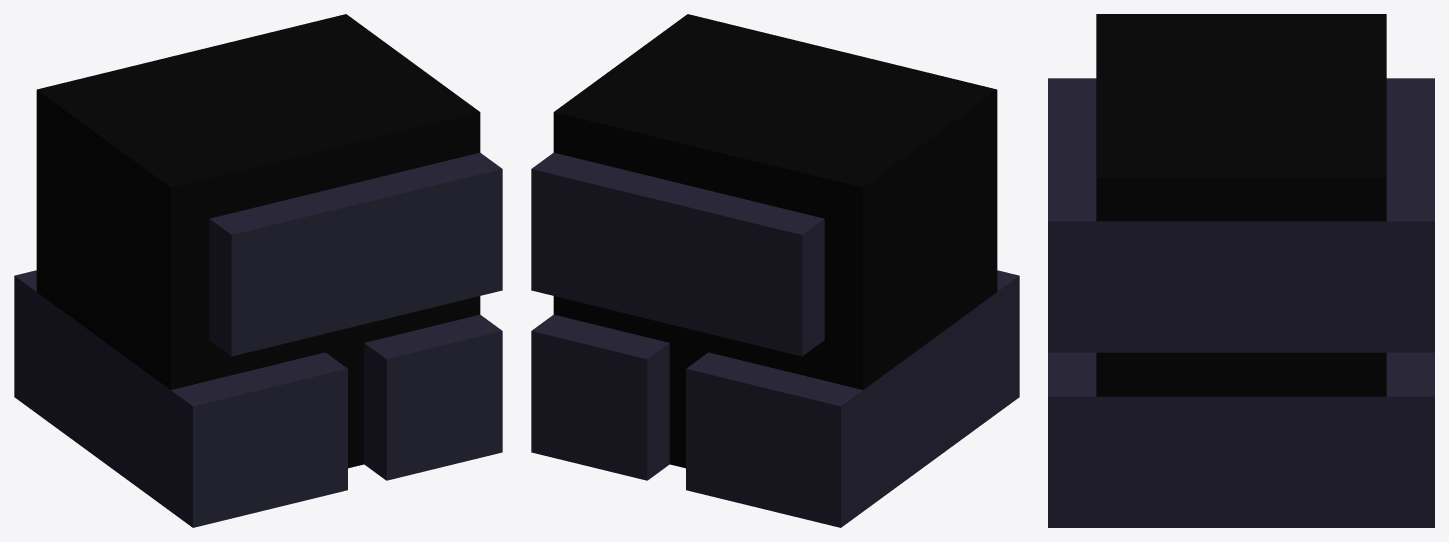
Rendered from wall_block.fbx.
3 renders of one model, left to right at view 1: azimuth 30°, elevation 25°; view 2: azimuth 150°, elevation 25°; view 3: azimuth 270°, elevation 25°, orthographic. The views are drawn at different scales.
Parts seen in each view (by area): view 1: wall_block; view 2: wall_block; view 3: wall_block.
Boxes of the visible parts, x1,y1,x2,y2 form: wall_block: (14, 14, 502, 527); wall_block: (531, 14, 1019, 527); wall_block: (1048, 14, 1434, 527).
Size of the model in its own units: 8 by 8 by 8.
Materials: 1 (1 with a texture image).
